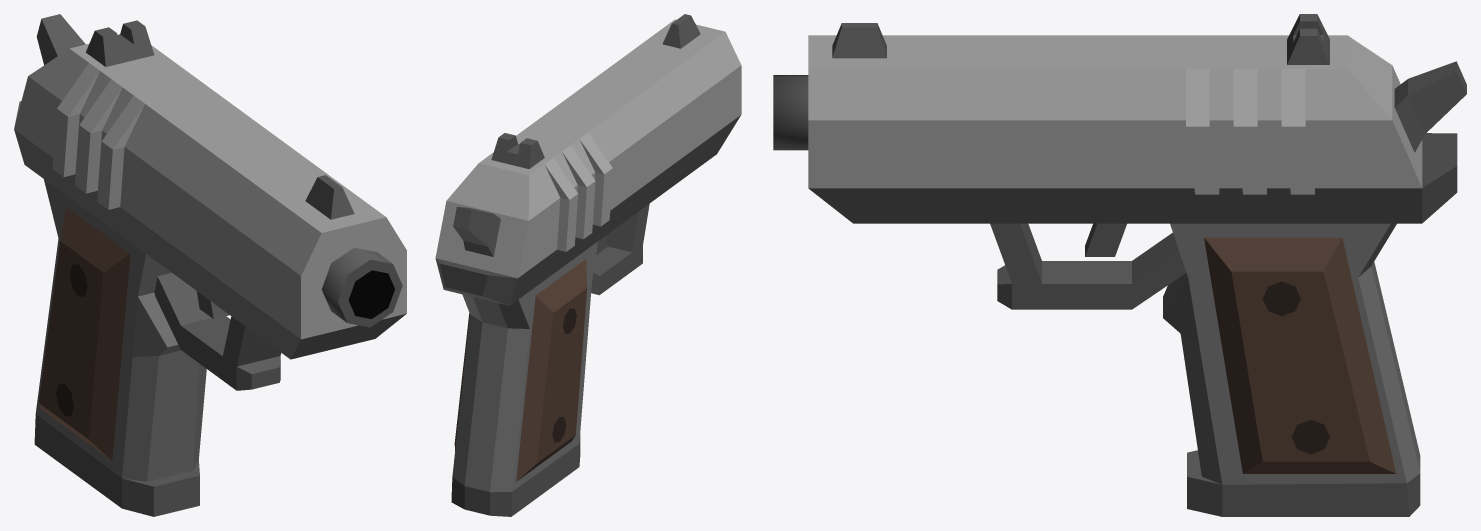
File: wpn_pistol_001.fbx
The picture shows the model from 3 angles, left to right: view 1: azimuth 30°, elevation 25°; view 2: azimuth 150°, elevation 25°; view 3: azimuth 270°, elevation 25°; orthographic projection. The views are drawn at different scales.
Visible parts, largest first — view 1: wpn_pistol_001; view 2: wpn_pistol_001; view 3: wpn_pistol_001.
Part boxes in pixels (x1,y1,x2,y2): wpn_pistol_001: (14,14,406,516); wpn_pistol_001: (435,14,741,516); wpn_pistol_001: (773,14,1466,516).
Bounding box in the file's own units: 0.0853 × 0.2783 × 0.3725.
